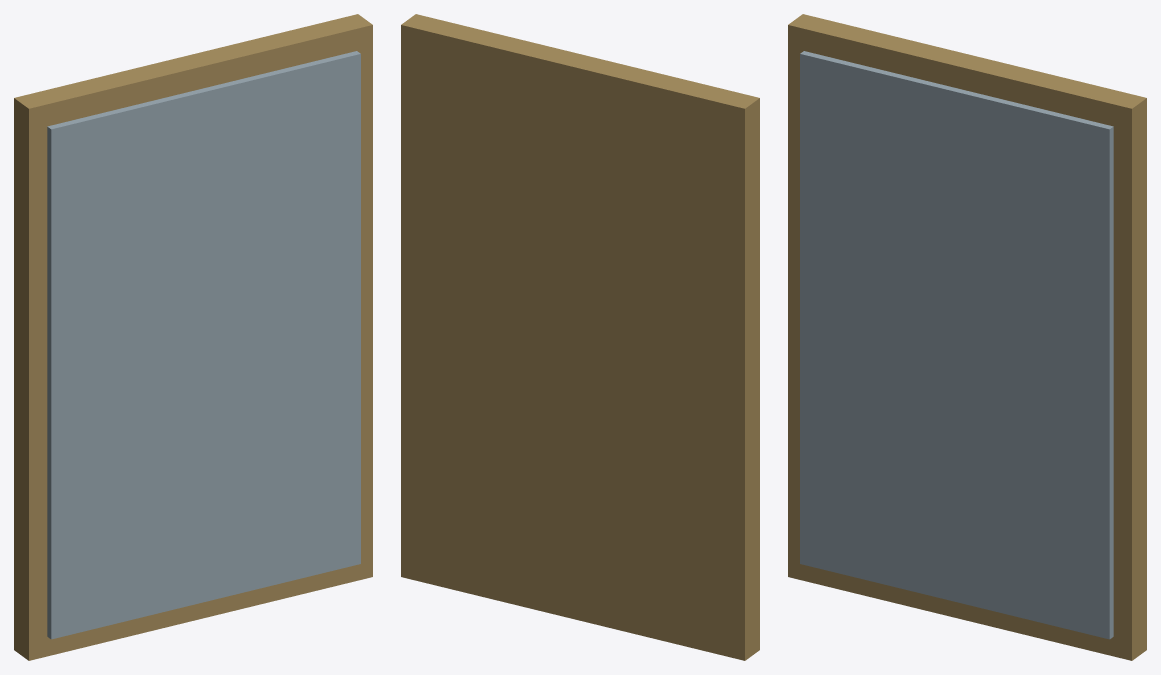
File: mirror.glb
3 views of the same model, side by side, from view 1: azimuth 30°, elevation 25°; view 2: azimuth 150°, elevation 25°; view 3: azimuth 330°, elevation 25° (orthographic).
Visible parts, largest first — view 1: _MeshInstance3D_1171, _MeshInstance3D_1170; view 2: _MeshInstance3D_1170; view 3: _MeshInstance3D_1171, _MeshInstance3D_1170.
Boxes of the visible parts, x1,y1,x2,y2 form: _MeshInstance3D_1171: (47, 51, 360, 639); _MeshInstance3D_1170: (14, 14, 372, 660); _MeshInstance3D_1170: (401, 14, 759, 660); _MeshInstance3D_1171: (800, 51, 1113, 639); _MeshInstance3D_1170: (788, 14, 1146, 660).
Size of the model in its own units: 0.6 by 0.92 by 0.0605.
